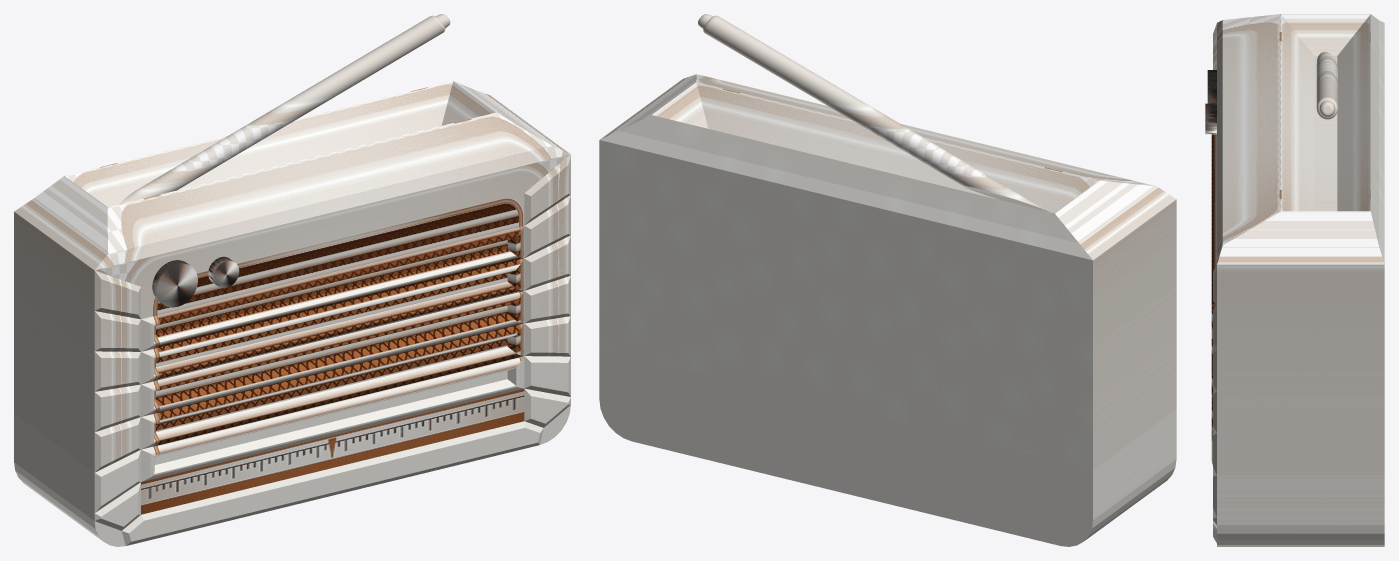
The model's file is radio2.fbx.
3 renders of one model, left to right at view 1: azimuth 30°, elevation 25°; view 2: azimuth 150°, elevation 25°; view 3: azimuth 270°, elevation 25°, orthographic. The views are drawn at different scales.
Visible parts, largest first — view 1: Cube; view 2: Cube; view 3: Cube.
Part boxes in pixels (bbox=[...]): Cube: bbox=[14, 14, 570, 546]; Cube: bbox=[599, 14, 1176, 546]; Cube: bbox=[1205, 14, 1384, 546].
Bounding box in the file's own units: 200 × 162 × 62.6.
1 material, 1 textured.
